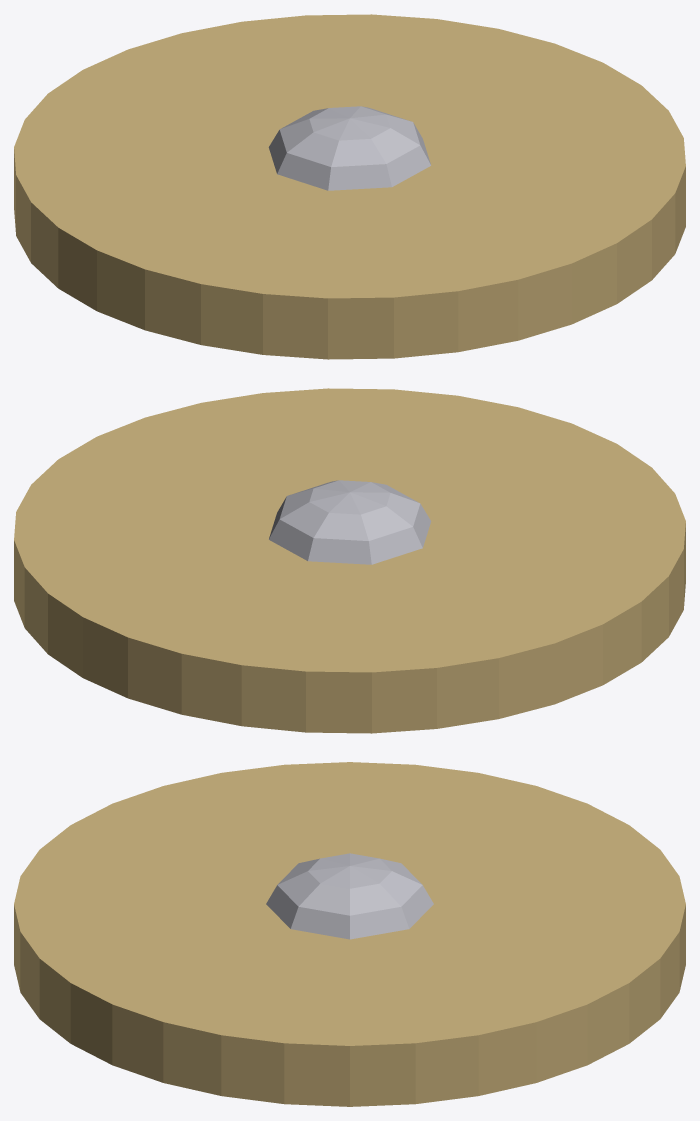
Rendered from shields.glb.
3 renders of one model, top to bottom at view 1: azimuth 30°, elevation 25°; view 2: azimuth 150°, elevation 25°; view 3: azimuth 270°, elevation 25°, orthographic.
Visible parts, largest first — view 1: shield, shield_boss; view 2: shield, shield_boss; view 3: shield, shield_boss.
Boxes of the visible parts, left/top/right/bottom form: shield: left=14, top=14, right=685, bottom=359; shield_boss: left=268, top=106, right=430, bottom=190; shield: left=14, top=388, right=685, bottom=733; shield_boss: left=269, top=480, right=431, bottom=564; shield: left=14, top=762, right=685, bottom=1106; shield_boss: left=266, top=853, right=433, bottom=939.
Size of the model in its own units: 0.2 by 0.0325 by 0.2.
